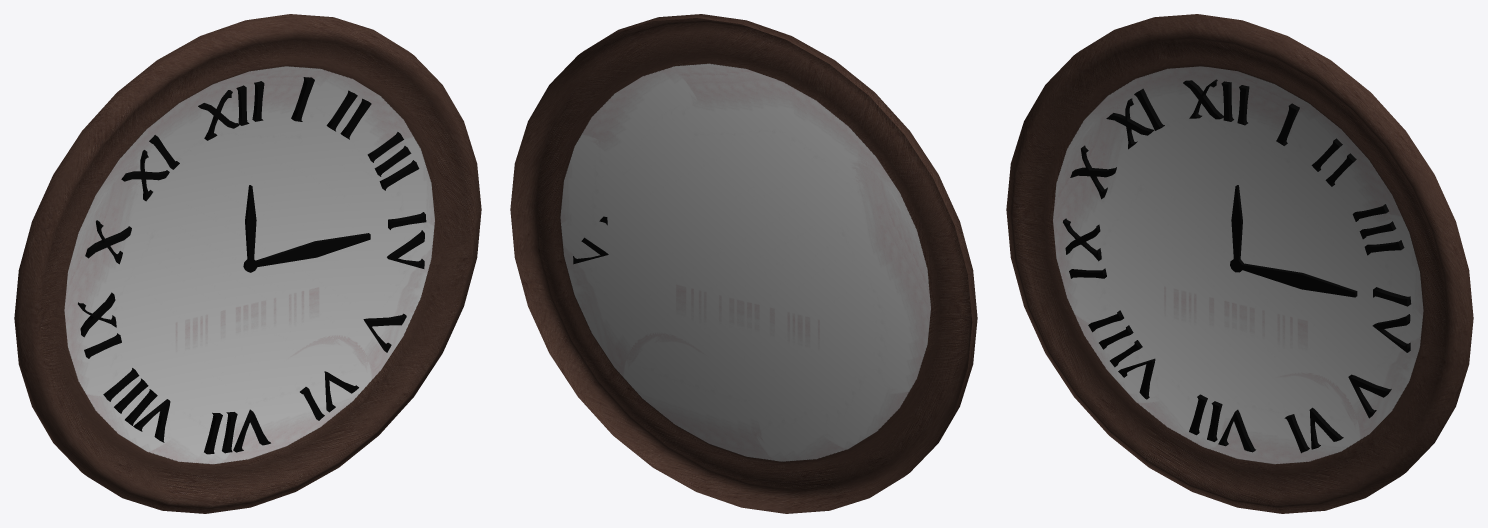
Rendered from roman_clock.glb.
3 renders of one model, left to right at view 1: azimuth 30°, elevation 25°; view 2: azimuth 150°, elevation 25°; view 3: azimuth 330°, elevation 25°, orthographic.
Parts seen in each view (by area): view 1: Cylinder; view 2: Cylinder; view 3: Cylinder.
Boxes of the visible parts, x1=… form: Cylinder: x1=14, y1=14, x2=481, y2=513; Cylinder: x1=510, y1=14, x2=977, y2=513; Cylinder: x1=1006, y1=14, x2=1473, y2=513.
Bounding box in the file's own units: 4018 × 4018 × 157.
1 material, 1 textured.
